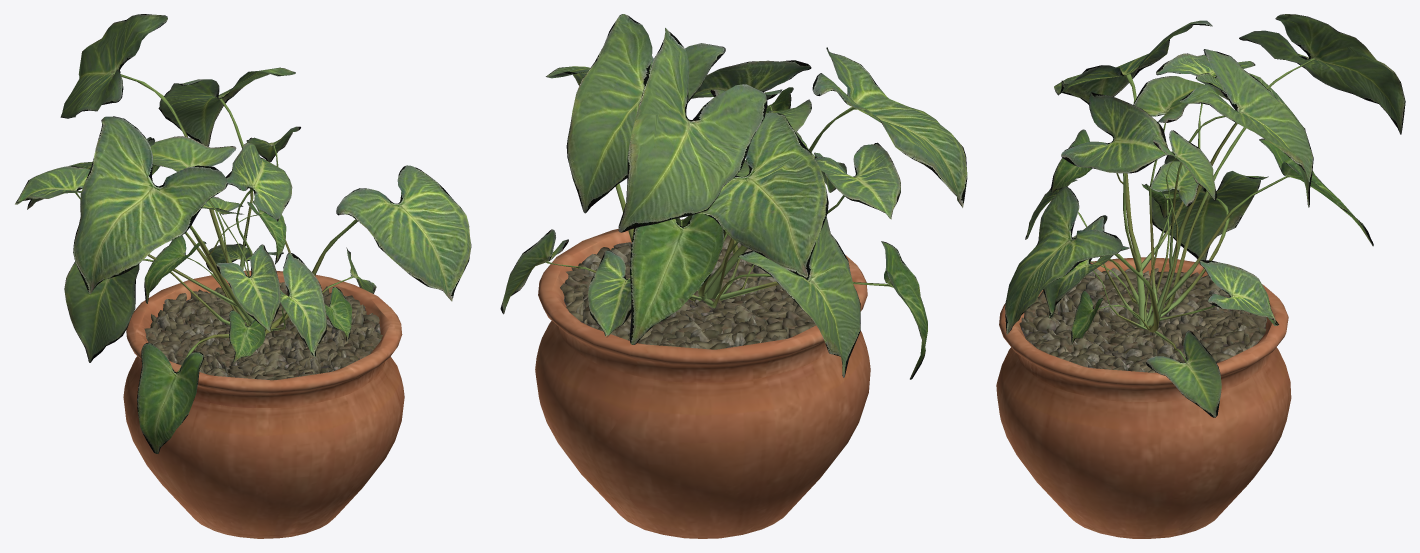
File: potted_plant_02.glb
The picture shows the model from 3 angles, left to right: view 1: azimuth 30°, elevation 25°; view 2: azimuth 150°, elevation 25°; view 3: azimuth 270°, elevation 25°; orthographic projection. The views are drawn at different scales.
Visible parts, largest first — view 1: potted_plant_02_leaves, potted_plant_02_pot, potted_plant_02_dirt; view 2: potted_plant_02_leaves, potted_plant_02_pot, potted_plant_02_dirt; view 3: potted_plant_02_leaves, potted_plant_02_pot, potted_plant_02_dirt.
Part boxes in pixels (box(x1,y1,x2,y2)): potted_plant_02_leaves: box(15, 14, 471, 453); potted_plant_02_pot: box(123, 270, 404, 538); potted_plant_02_dirt: box(144, 282, 382, 380); potted_plant_02_leaves: box(500, 14, 967, 379); potted_plant_02_pot: box(535, 219, 870, 538); potted_plant_02_dirt: box(560, 232, 815, 349); potted_plant_02_leaves: box(1005, 14, 1405, 417); potted_plant_02_pot: box(996, 257, 1291, 538); potted_plant_02_dirt: box(1019, 267, 1267, 372).
Size of the model in its own units: 0.7009 by 0.8415 by 0.6576.
2 materials, 2 textured.
